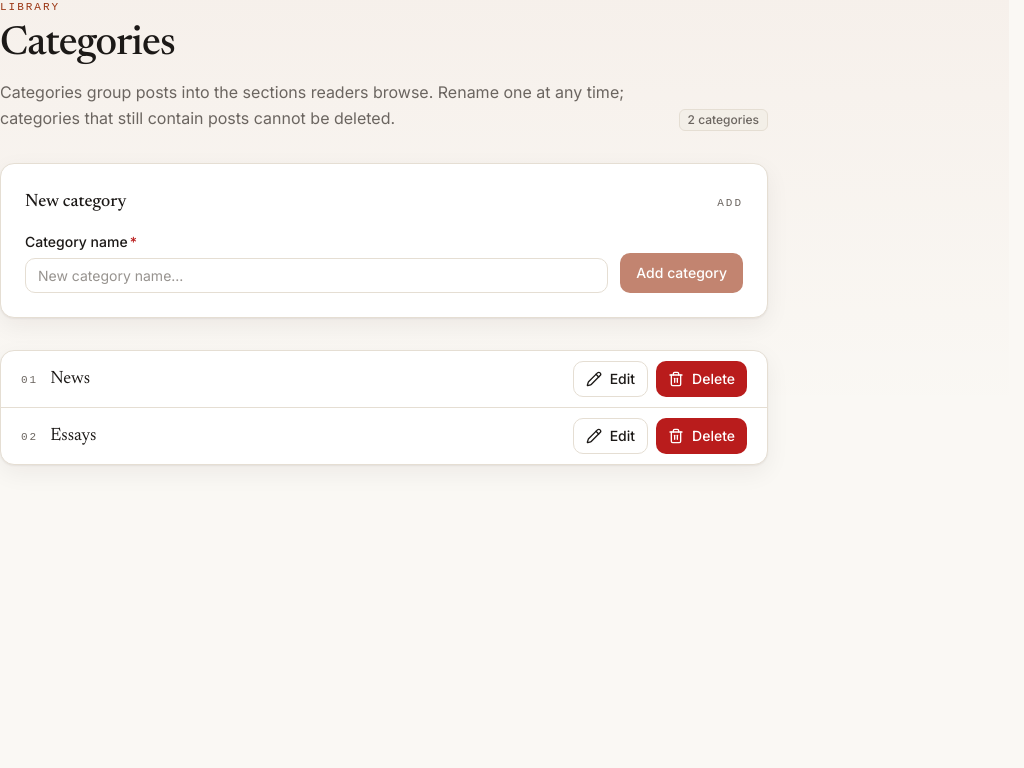
Test: CategoriesPage › shows the backend message when deleting fails
Expected: the text "News" is shown, top-left (50, 365), bottom-right (90, 393)
Click the button with aria-label "Delete News": (702, 379) top-left (656, 361), bottom-right (747, 397)
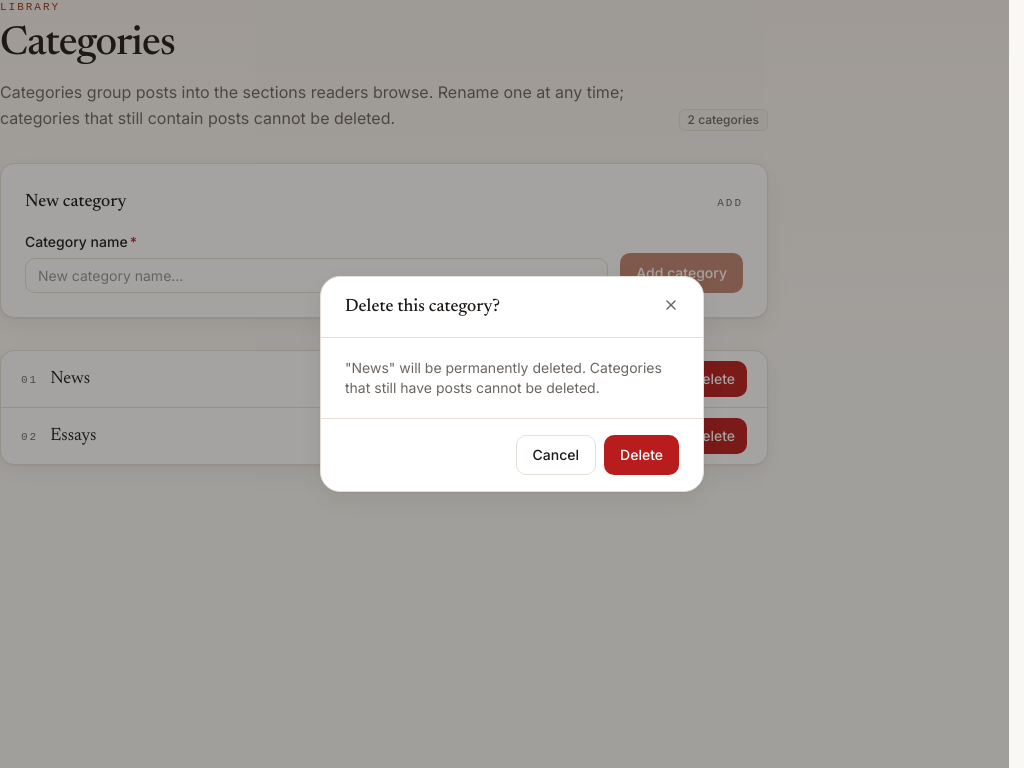
Click the button "Delete": (642, 455) top-left (604, 435), bottom-right (679, 475)
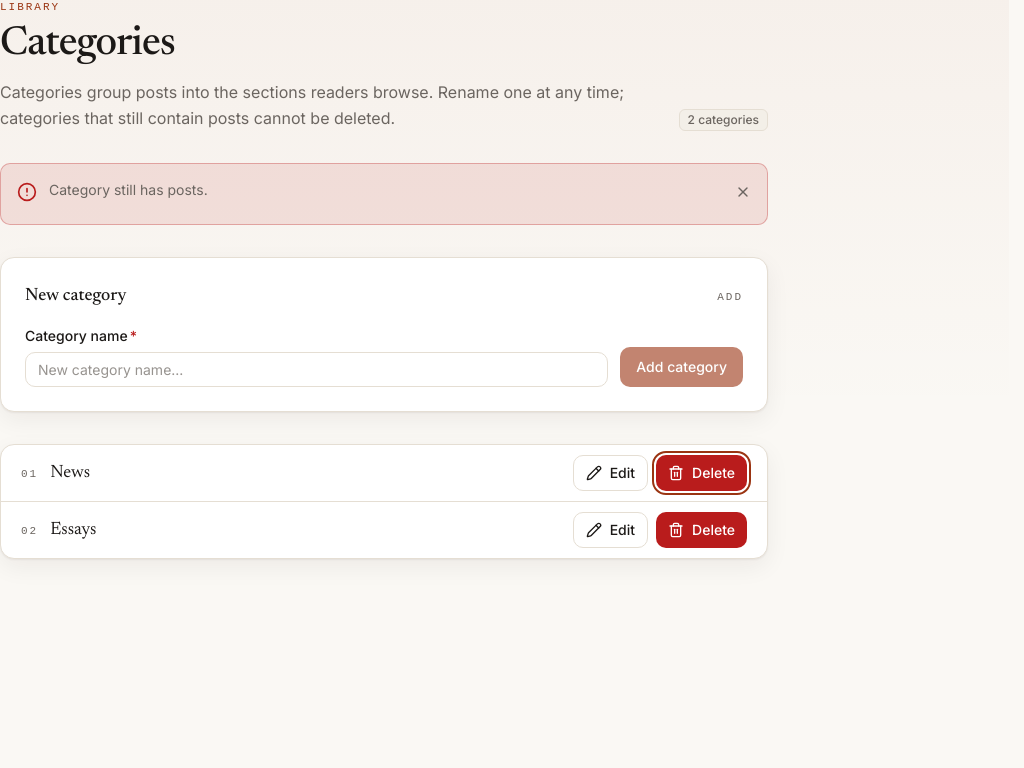
Expected: the message reads "Category still has posts.", top-left (49, 181), bottom-right (208, 198)
Expected: the dialog is gone
